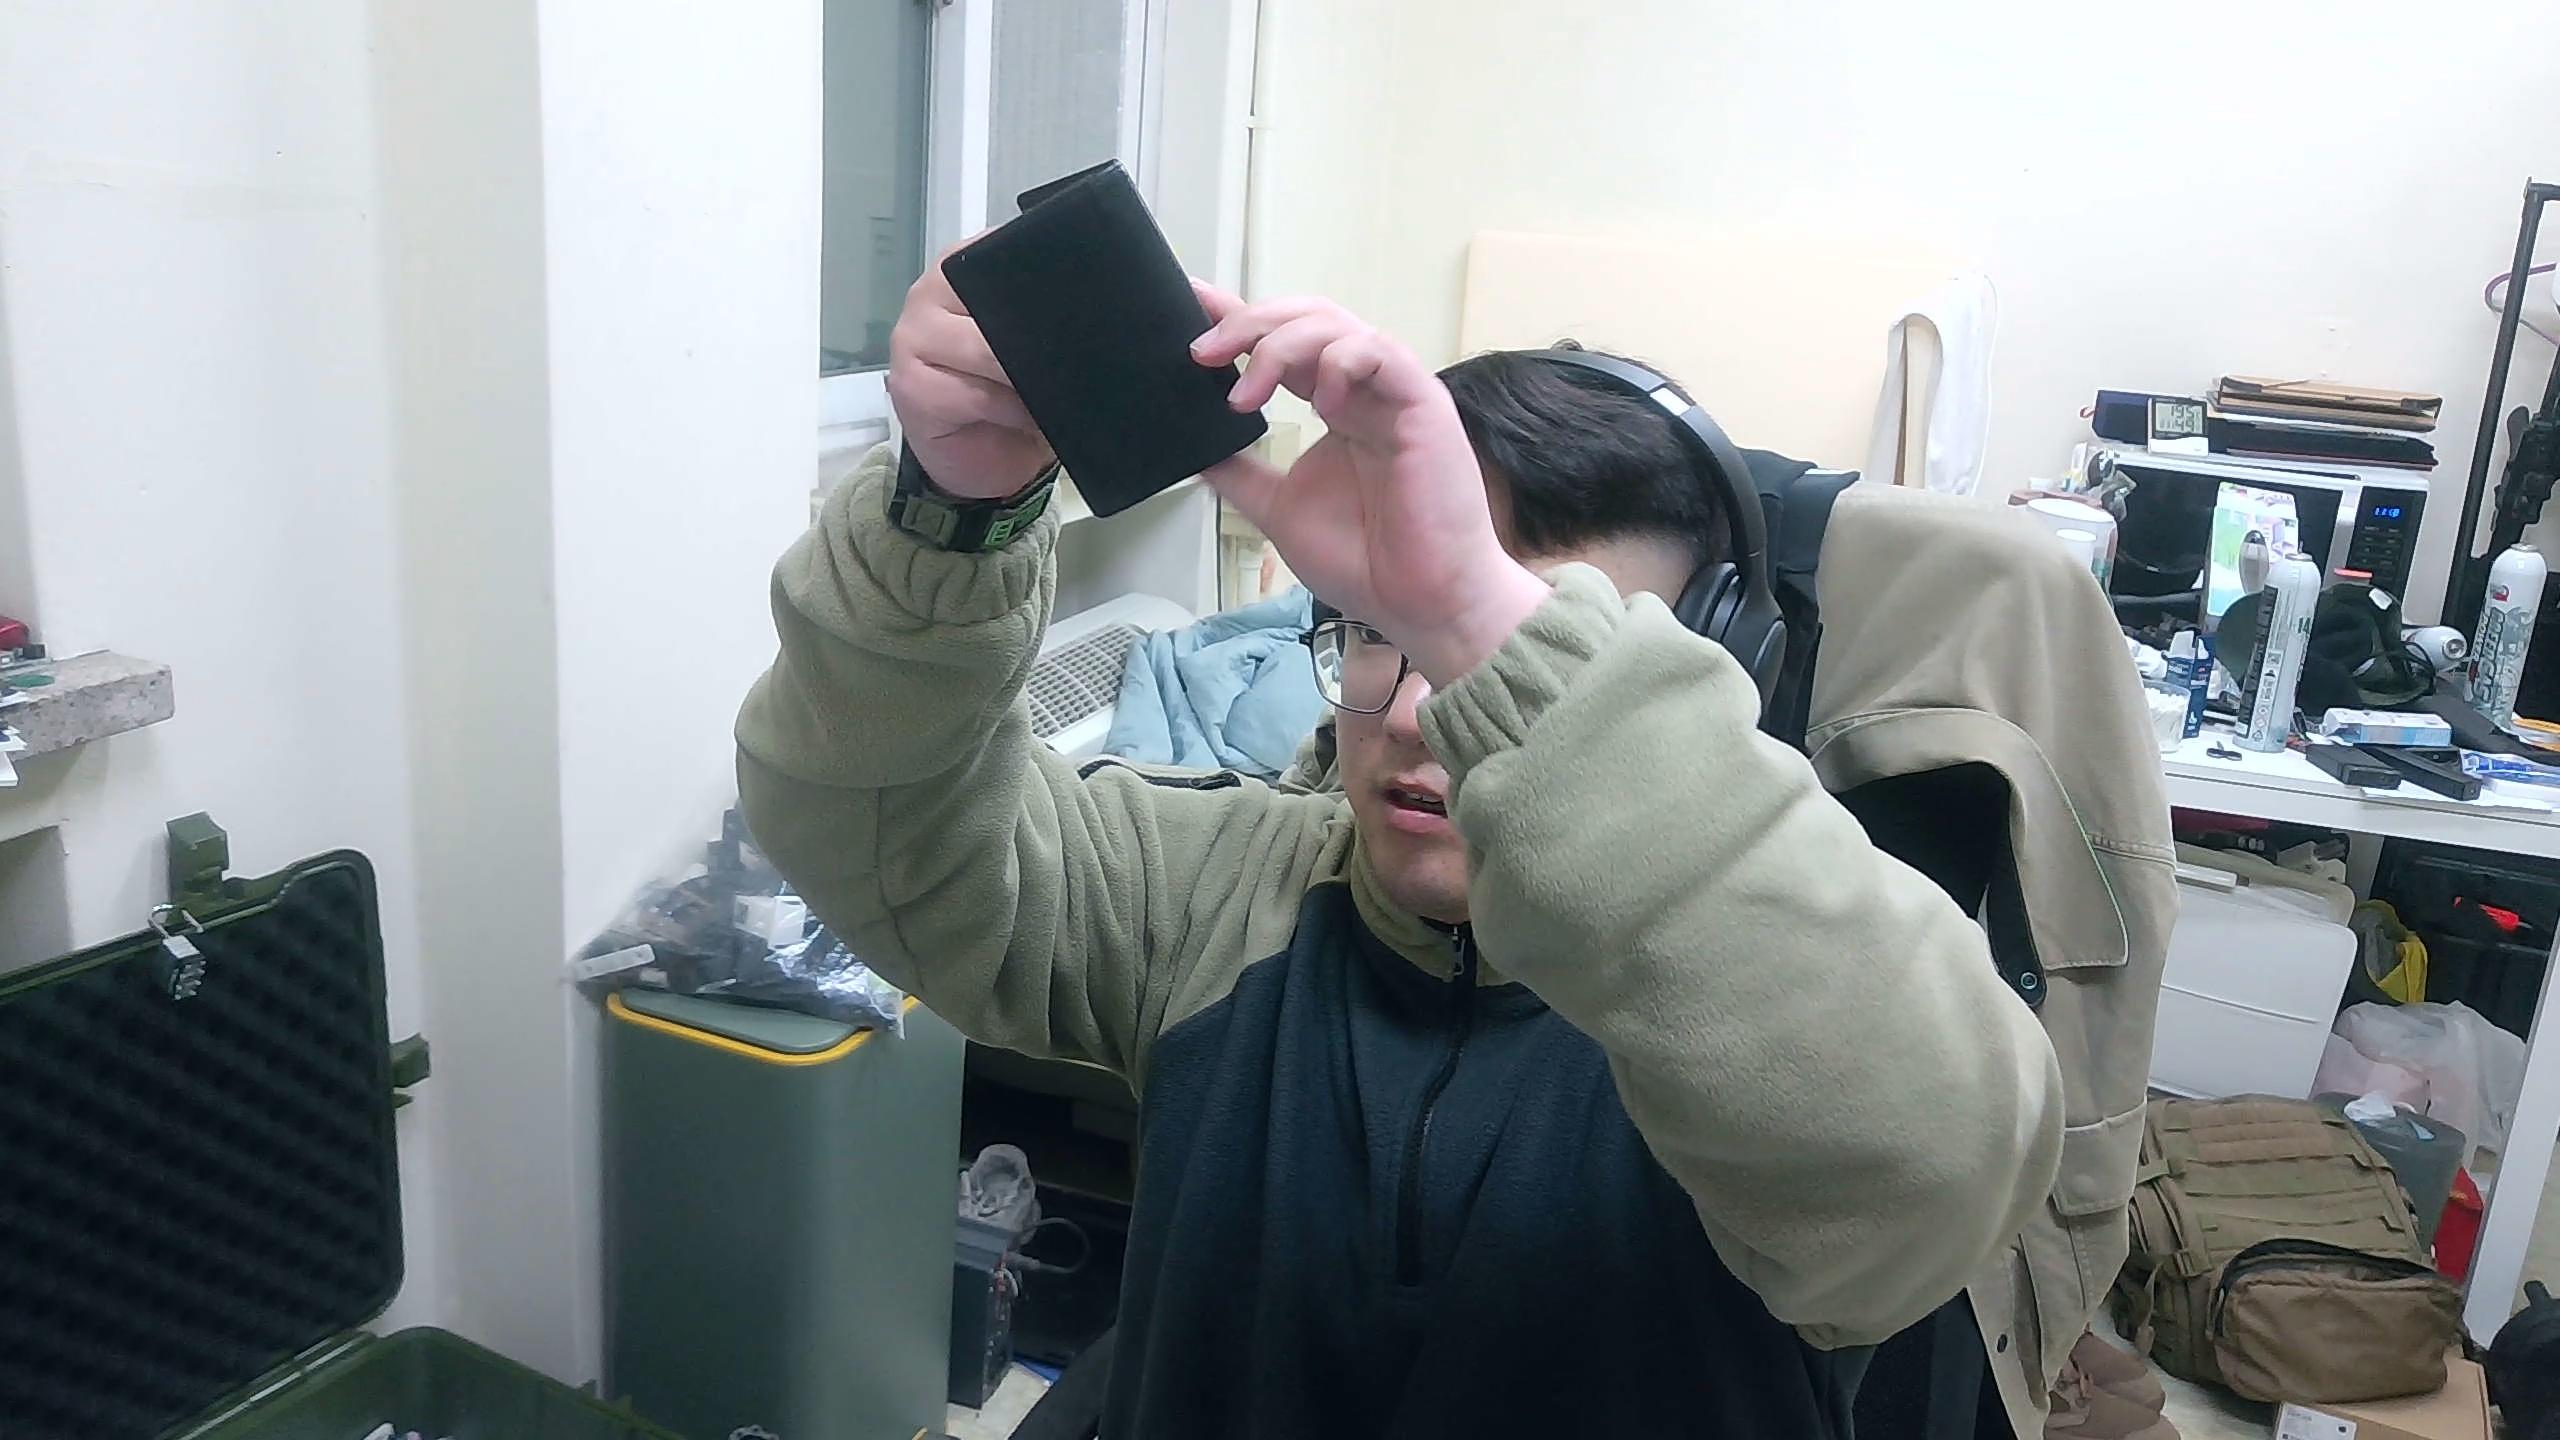Wallet: (944, 156, 1276, 520)
